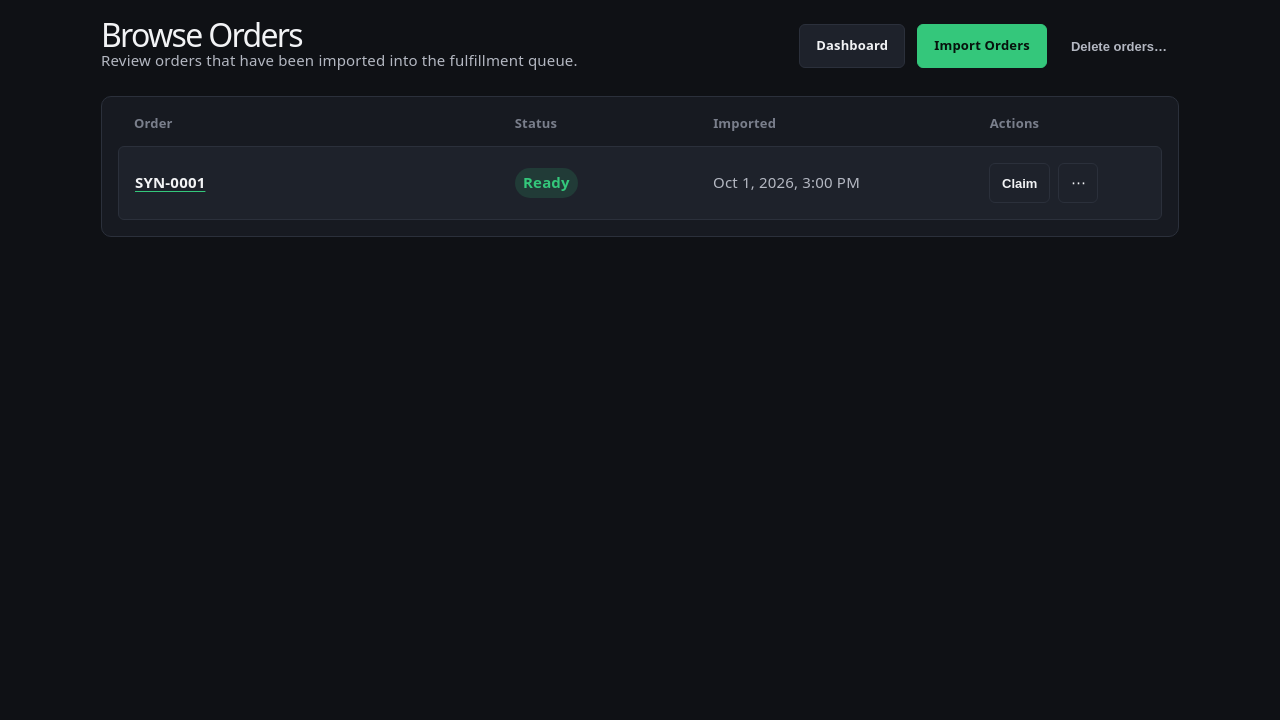
Test case: OrdersPage deletion › names the order in the single confirmation, with no warnings when none apply (FR-014, FR-022)
The image size is (1280, 720).
Step 1. Click the button named "actions" → click(1078, 183), box [1058,163,1098,203]
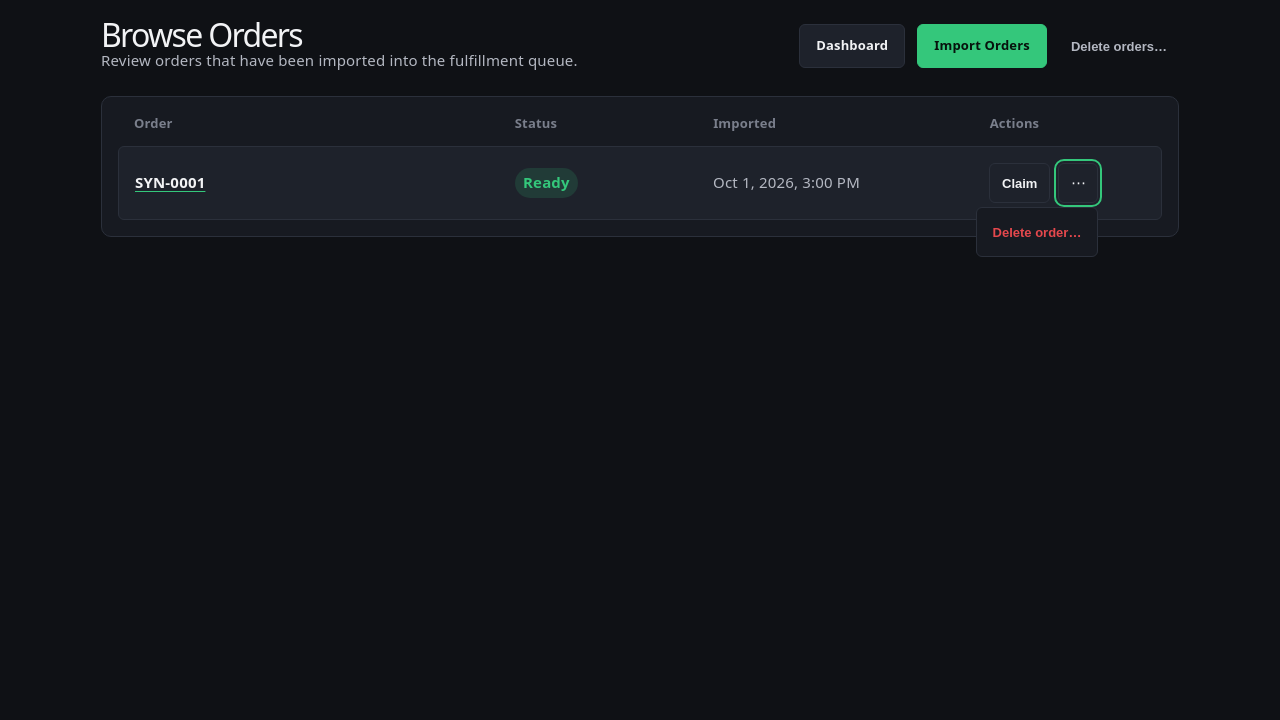
Step 2. Click the menu item "Delete order…" → click(1037, 232), box [980,212,1093,252]
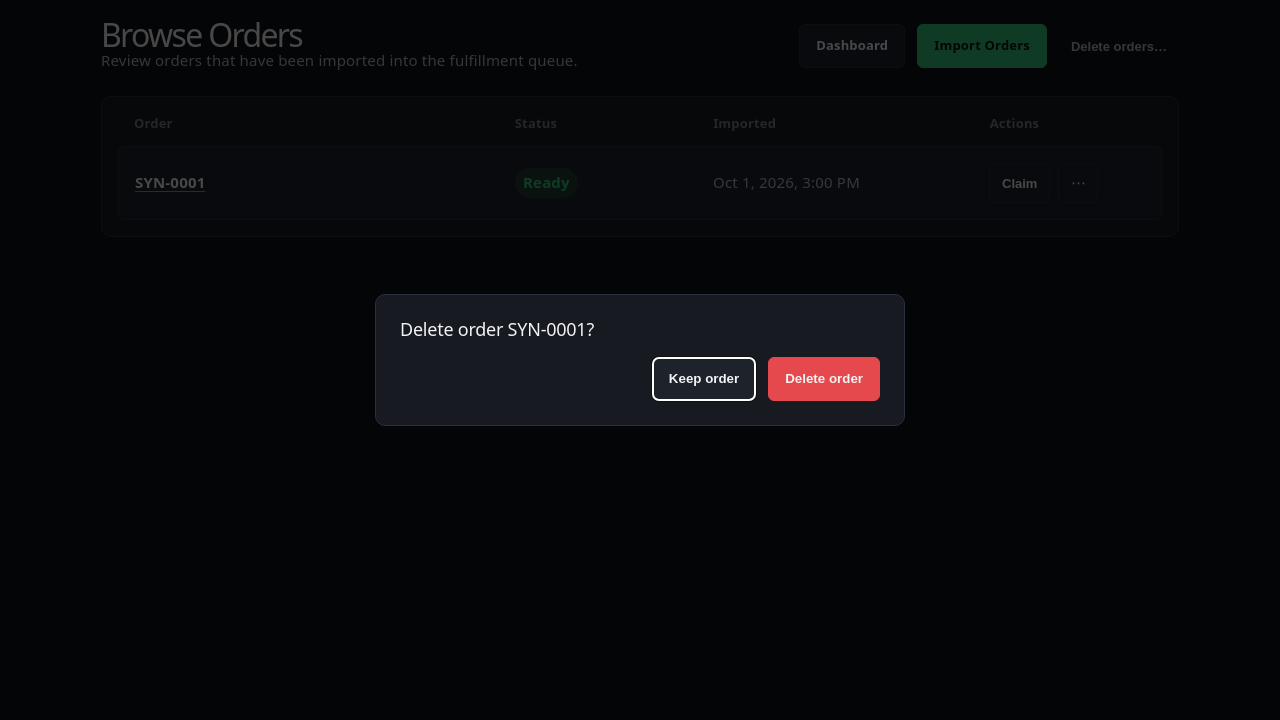
expect the button "Delete order" is shown: met, box [768,357,880,401]
